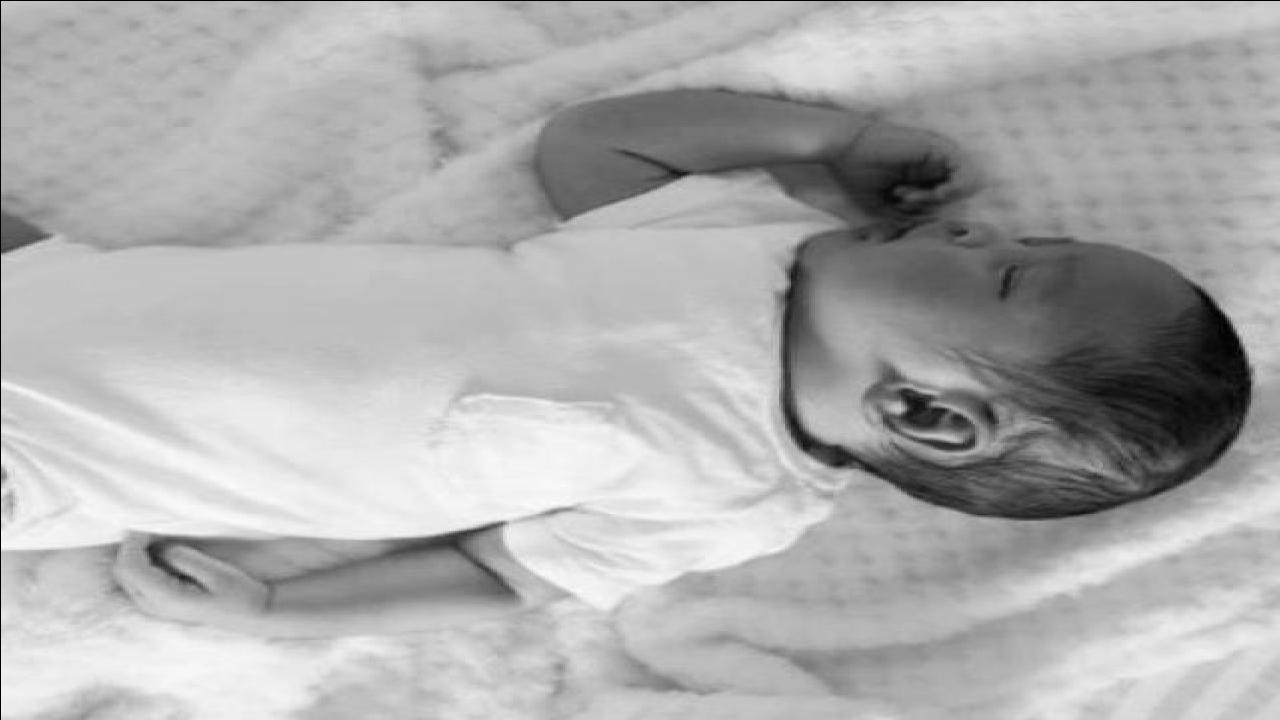hand: (108, 530, 263, 634), (826, 121, 974, 226)
